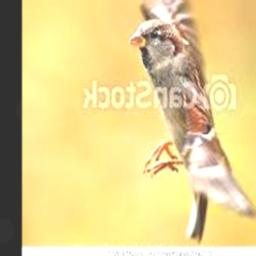Sparrow: (122, 0, 256, 242)
